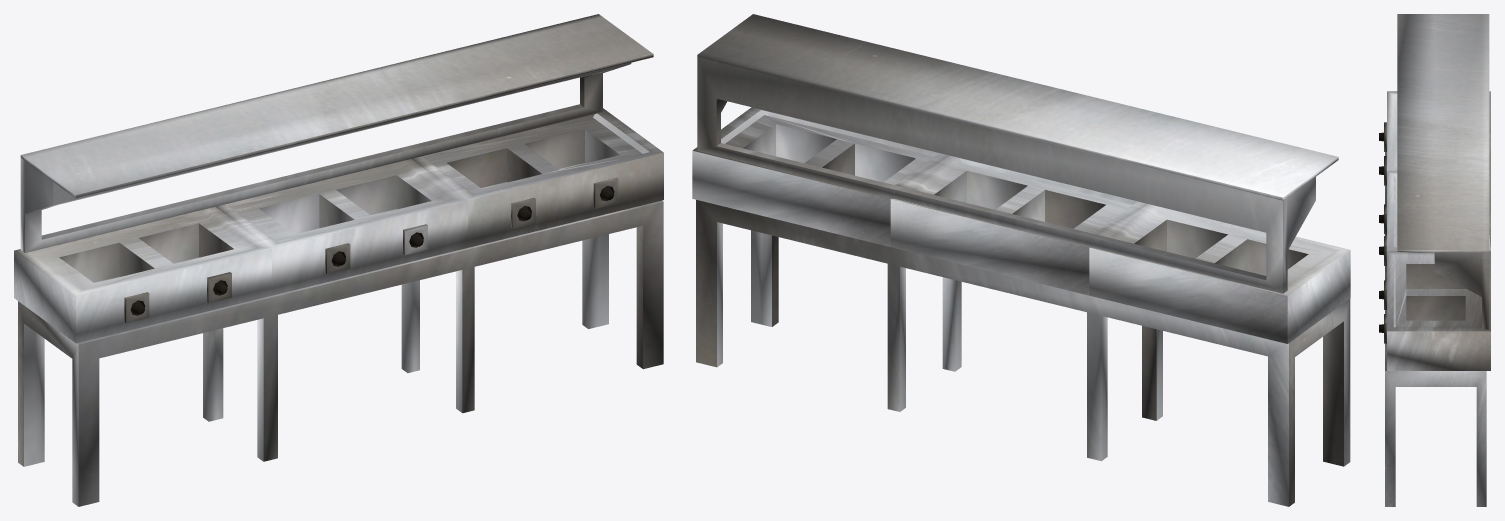
File: ServingStation_Galley.obj
3 views of the same model, side by side, from view 1: azimuth 30°, elevation 25°; view 2: azimuth 150°, elevation 25°; view 3: azimuth 270°, elevation 25° (orthographic). The views are drawn at different scales.
Visible parts, largest first — view 1: ServingStation_Galley.obj; view 2: ServingStation_Galley.obj; view 3: ServingStation_Galley.obj.
Part boxes in pixels (left/top/right/bottom): ServingStation_Galley.obj: left=14, top=14, right=663, bottom=506; ServingStation_Galley.obj: left=692, top=14, right=1350, bottom=506; ServingStation_Galley.obj: left=1379, top=14, right=1490, bottom=506.
Bounding box in the file's own units: 19.52 × 9.69 × 3.84.
